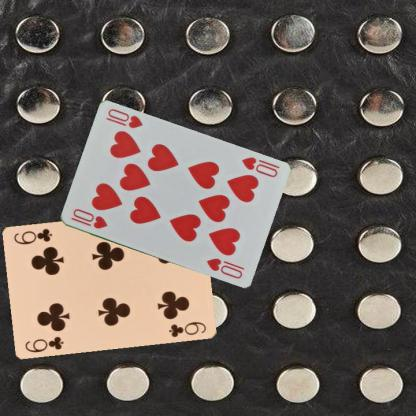10h: (238, 154, 278, 179), (68, 206, 109, 230)
6c: (23, 334, 65, 354)
